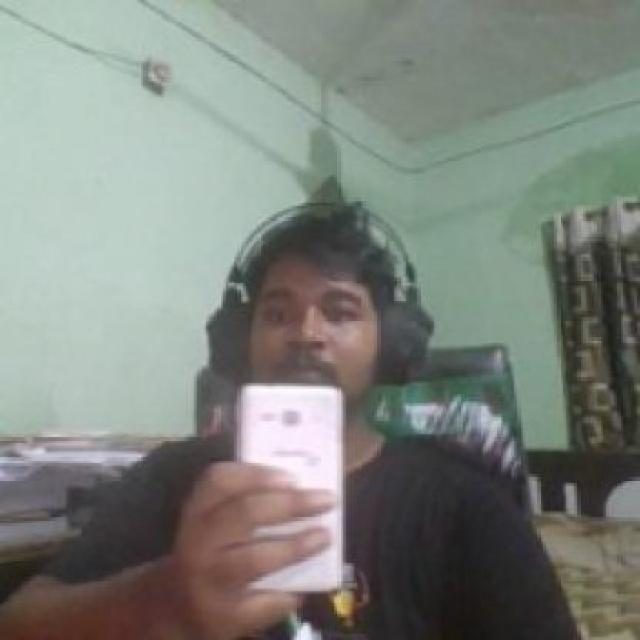Phone: (234, 381, 345, 589)
